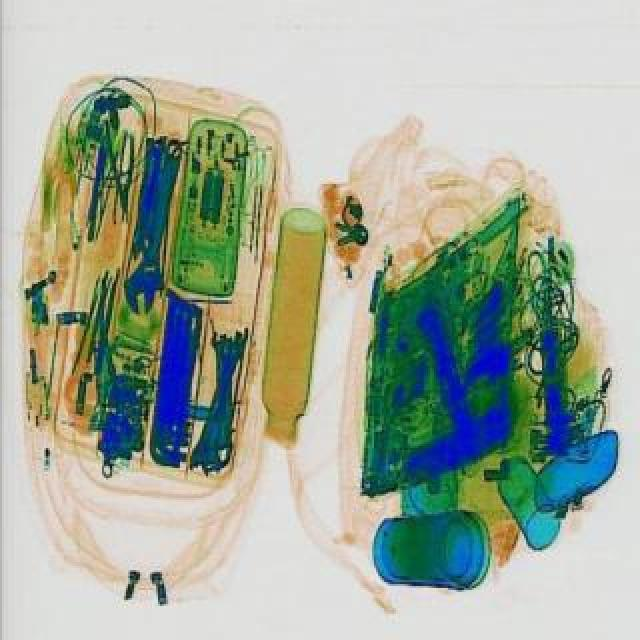scissors: (116, 136, 196, 318)
